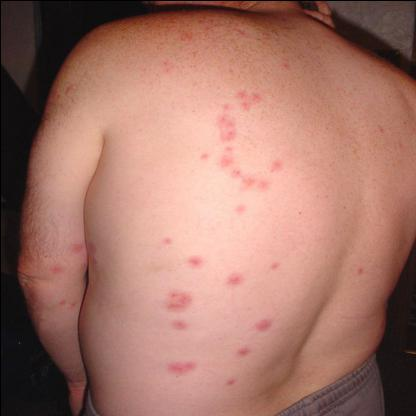Bed Bug: (190, 83, 296, 193), (160, 286, 196, 336), (229, 18, 287, 44), (160, 353, 202, 381), (68, 236, 102, 268), (372, 118, 404, 152), (49, 80, 79, 106), (247, 313, 277, 333), (53, 296, 92, 310), (42, 258, 65, 280), (178, 249, 204, 268), (156, 56, 176, 80), (233, 341, 258, 360), (221, 268, 247, 286), (176, 27, 198, 46), (274, 53, 296, 72), (154, 230, 178, 247), (221, 59, 242, 77), (263, 254, 282, 272), (222, 372, 240, 390), (352, 262, 370, 276), (232, 202, 249, 216)
